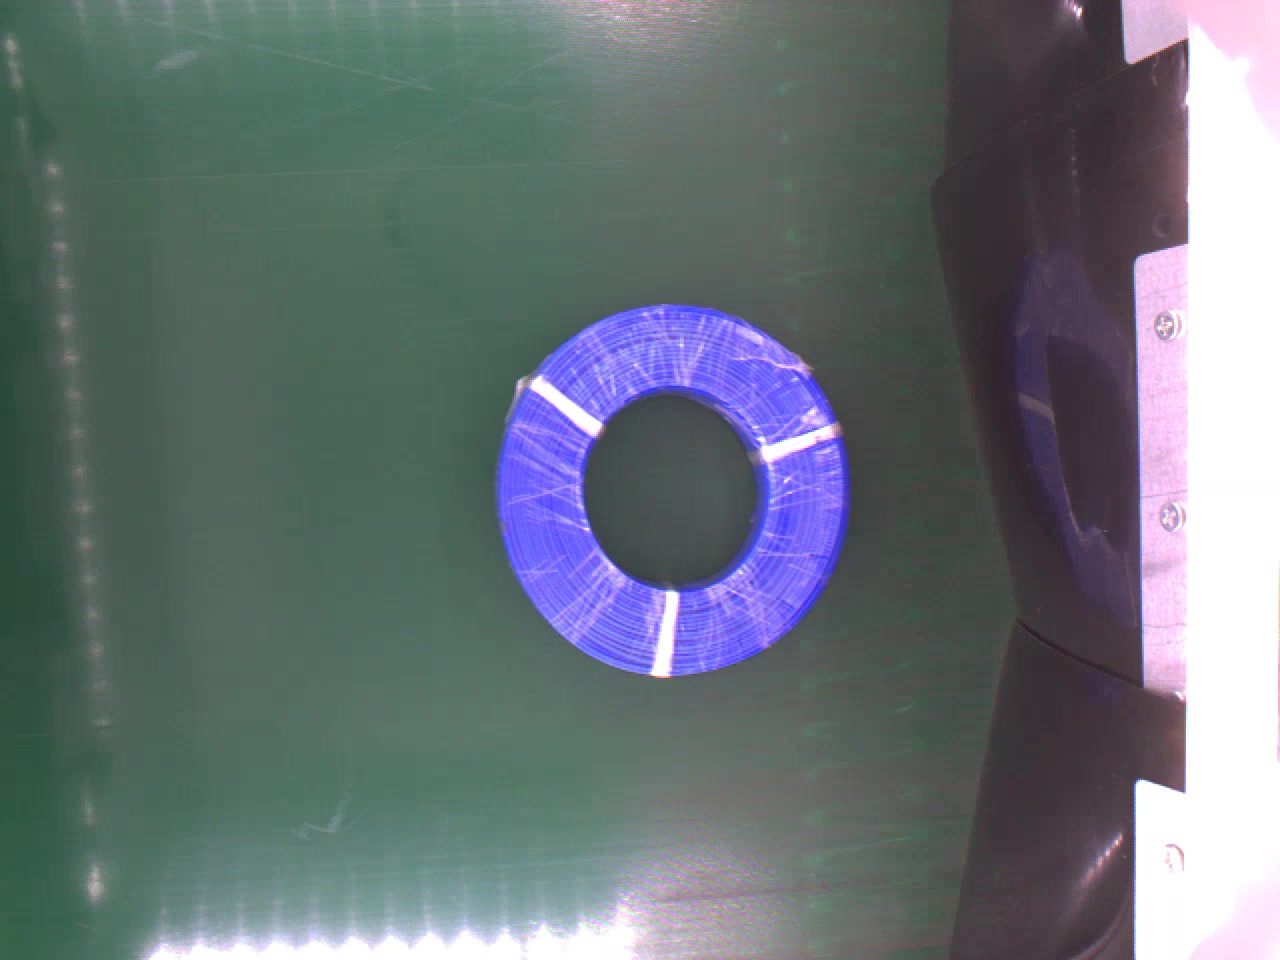blue: (486, 302, 860, 675)
